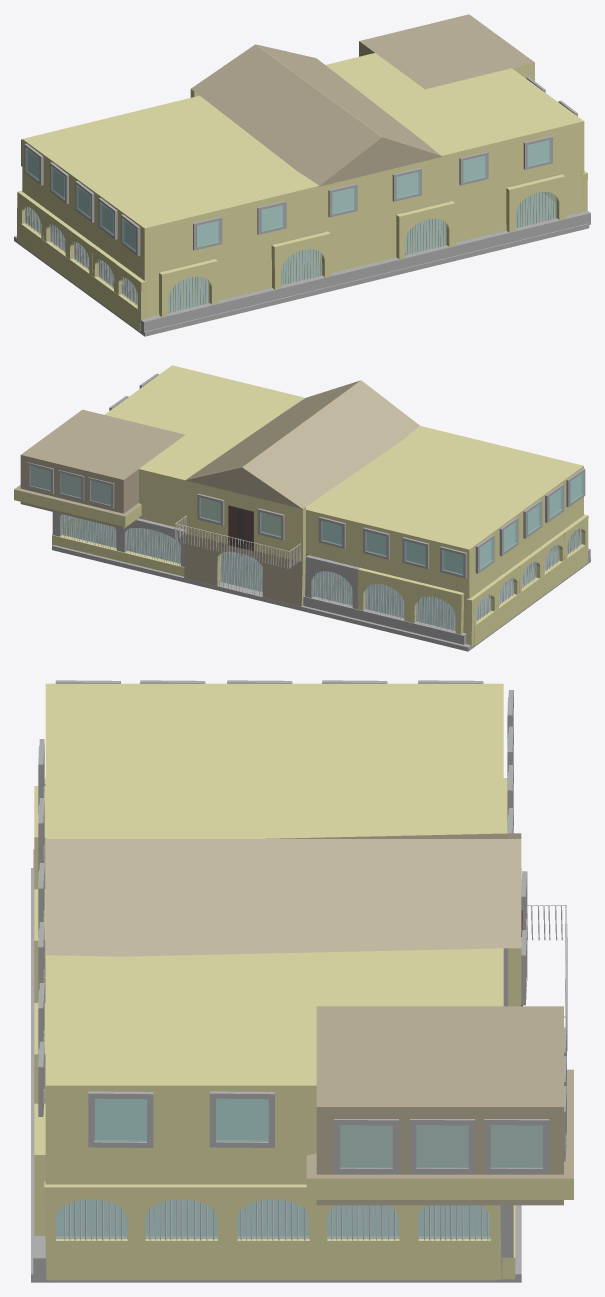
File: alcaldia (1).fbx
3 renders of one model, top to bottom at view 1: azimuth 30°, elevation 25°; view 2: azimuth 150°, elevation 25°; view 3: azimuth 270°, elevation 25°, orthographic. The views are drawn at different scales.
Visible parts, largest first — view 1: pCube8, pasted__pasted__pCube96, pCube7, pCube6, pCube1, pasted__pasted__pasted__pCylinder145, pasted__pasted__pasted__pCylinder163, pasted__pasted__pasted__pCylinder164, pasted__pasted__pasted__pCylinder162, pasted__pasted__pCube109, pasted__pasted__pCube112, pasted__pCube276 (+13 smaller); view 2: pCube8, pasted__pasted__pCube96, pCube1, pCube6, pasted__pCube273, pCube4, pCube5, pasted__pasted__pCube92, pasted__pasted__pCube91, pasted__pasted__pCube93, pasted__pCube2, pasted__pasted__pCube112 (+17 smaller); view 3: pCube8, pasted__pasted__pCube96, pCube3, pasted__pCube284, pasted__pCube283, pasted__pCube266, pasted__pCube268, pasted__pCube269, pasted__pasted__pCube103, pasted__pasted__pCube104, pCube1, pasted__pasted__pCube101 (+8 smaller).
Boxes of the visible parts, x1=… form: pCube8: x1=22, y1=14, x2=584, y2=317; pasted__pasted__pCube96: x1=190, y1=44, x2=442, y2=186; pCube7: x1=141, y1=210, x2=590, y2=333; pCube6: x1=20, y1=223, x2=139, y2=331; pCube1: x1=14, y1=223, x2=589, y2=336; pasted__pasted__pasted__pCylinder145: x1=271, y1=231, x2=331, y2=289; pasted__pasted__pasted__pCylinder163: x1=396, y1=201, x2=456, y2=259; pasted__pasted__pasted__pCylinder164: x1=506, y1=174, x2=566, y2=232; pasted__pasted__pasted__pCylinder162: x1=159, y1=259, x2=218, y2=317; pasted__pasted__pCube109: x1=115, y1=263, x2=147, y2=331; pasted__pasted__pCube112: x1=16, y1=190, x2=47, y2=242; pasted__pCube276: x1=24, y1=143, x2=43, y2=185; pCube8: x1=14, y1=365, x2=583, y2=633; pasted__pasted__pCube96: x1=184, y1=380, x2=419, y2=606; pCube1: x1=52, y1=545, x2=590, y2=651; pCube6: x1=474, y1=544, x2=586, y2=645; pasted__pCube273: x1=27, y1=462, x2=114, y2=508; pCube4: x1=303, y1=596, x2=466, y2=644; pCube5: x1=52, y1=535, x2=184, y2=576; pasted__pasted__pCube92: x1=409, y1=580, x2=464, y2=634; pasted__pasted__pCube91: x1=357, y1=567, x2=412, y2=621; pasted__pasted__pCube93: x1=305, y1=555, x2=359, y2=609; pasted__pCube2: x1=228, y1=505, x2=253, y2=550; pasted__pasted__pCube112: x1=466, y1=581, x2=497, y2=646; pCube8: x1=45, y1=683, x2=573, y2=1238; pasted__pasted__pCube96: x1=45, y1=833, x2=521, y2=1006; pCube3: x1=50, y1=1236, x2=496, y2=1280; pasted__pCube284: x1=88, y1=1091, x2=153, y2=1147; pasted__pCube283: x1=209, y1=1091, x2=274, y2=1147; pasted__pCube266: x1=484, y1=1119, x2=549, y2=1174; pasted__pCube268: x1=409, y1=1119, x2=474, y2=1174; pasted__pCube269: x1=334, y1=1119, x2=398, y2=1174; pasted__pasted__pCube103: x1=134, y1=1184, x2=228, y2=1279; pasted__pasted__pCube104: x1=44, y1=1181, x2=136, y2=1279; pCube1: x1=31, y1=868, x2=521, y2=1282; pasted__pasted__pCube101: x1=227, y1=1184, x2=318, y2=1279.
Bounding box in the file's own units: 42.75 × 11.93 × 22.74.
